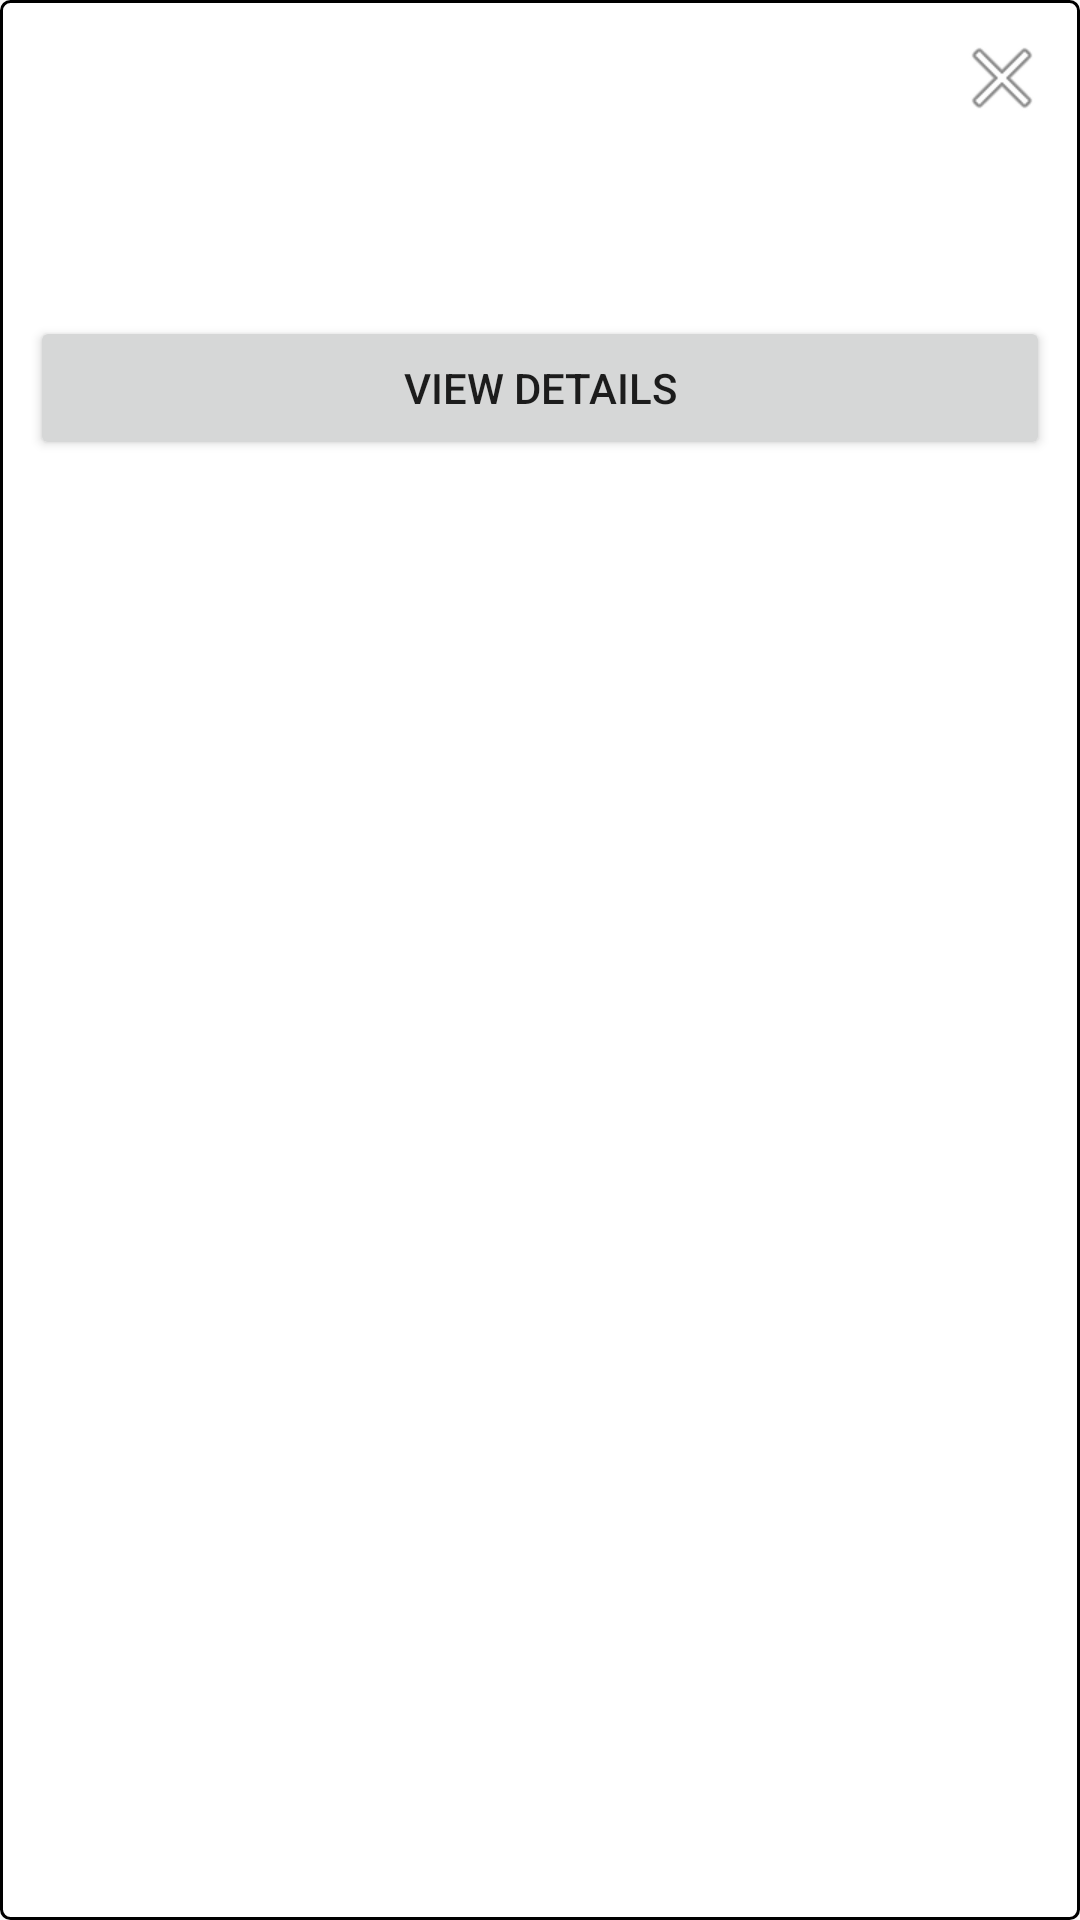

Icons on this 1080w x 1920h Android screen, each with its box as [x1, y1, x2, y2]:
close clear cancel: [972, 48, 1032, 108]
